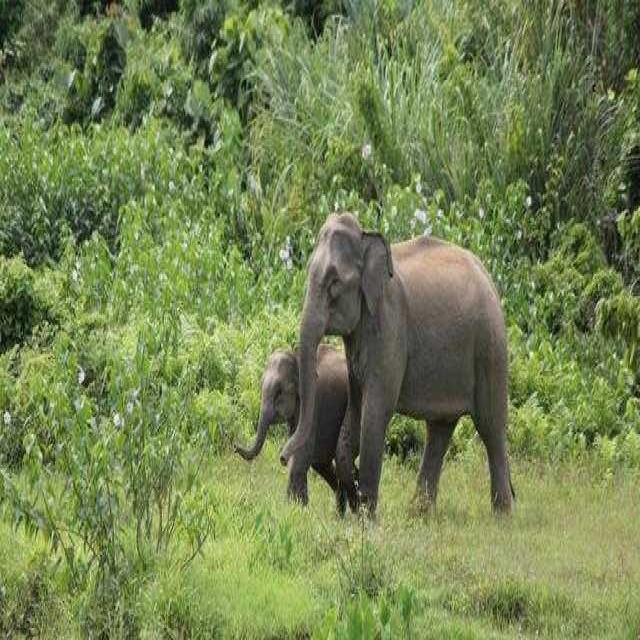Elephant: (280, 210, 515, 522), (233, 340, 360, 514)
